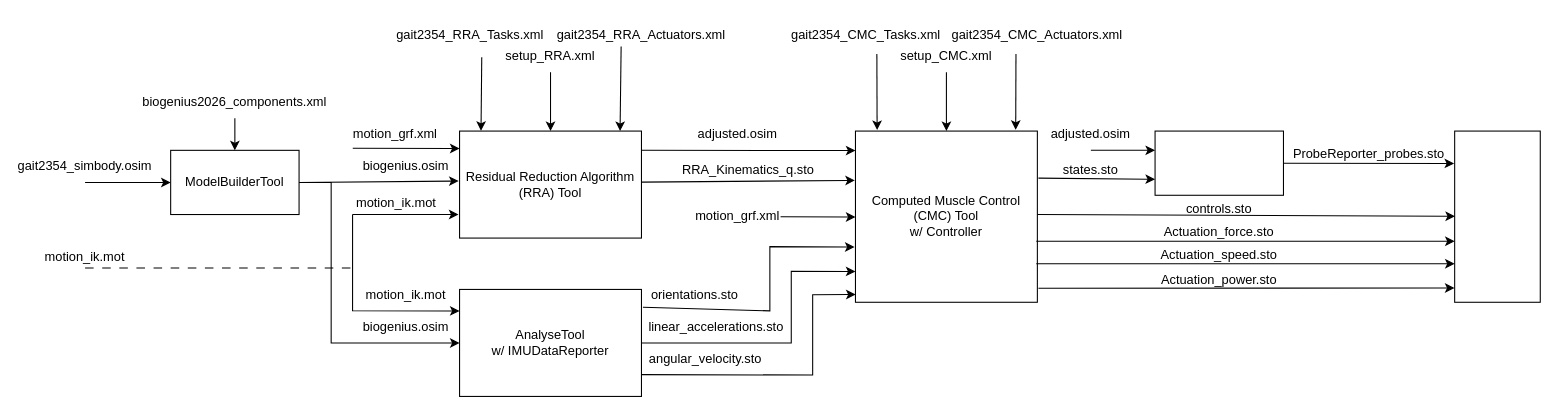
The diagram is 1559 pixels wide and 415 high, and some of its shapes have lost their labels. The shapes that lost their labels are listed below. From the top down, each one's centre as x and y in pixels, then its label:
point 1218,162: AnalyseTool w/ ProbeReporter
point 1497,216: Plot
